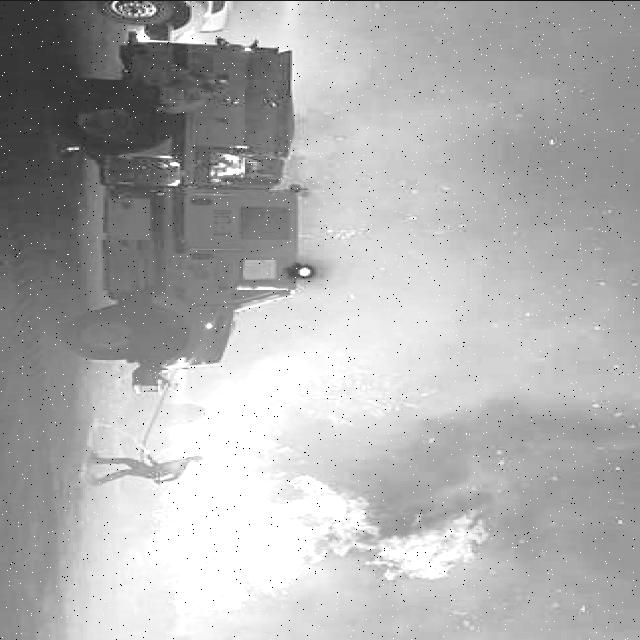api: (166, 392, 496, 619)
